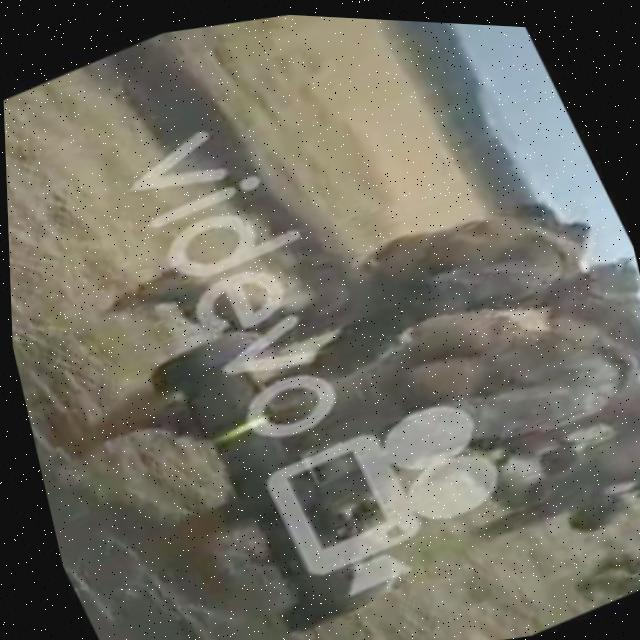rocket: (150, 306, 393, 640)
